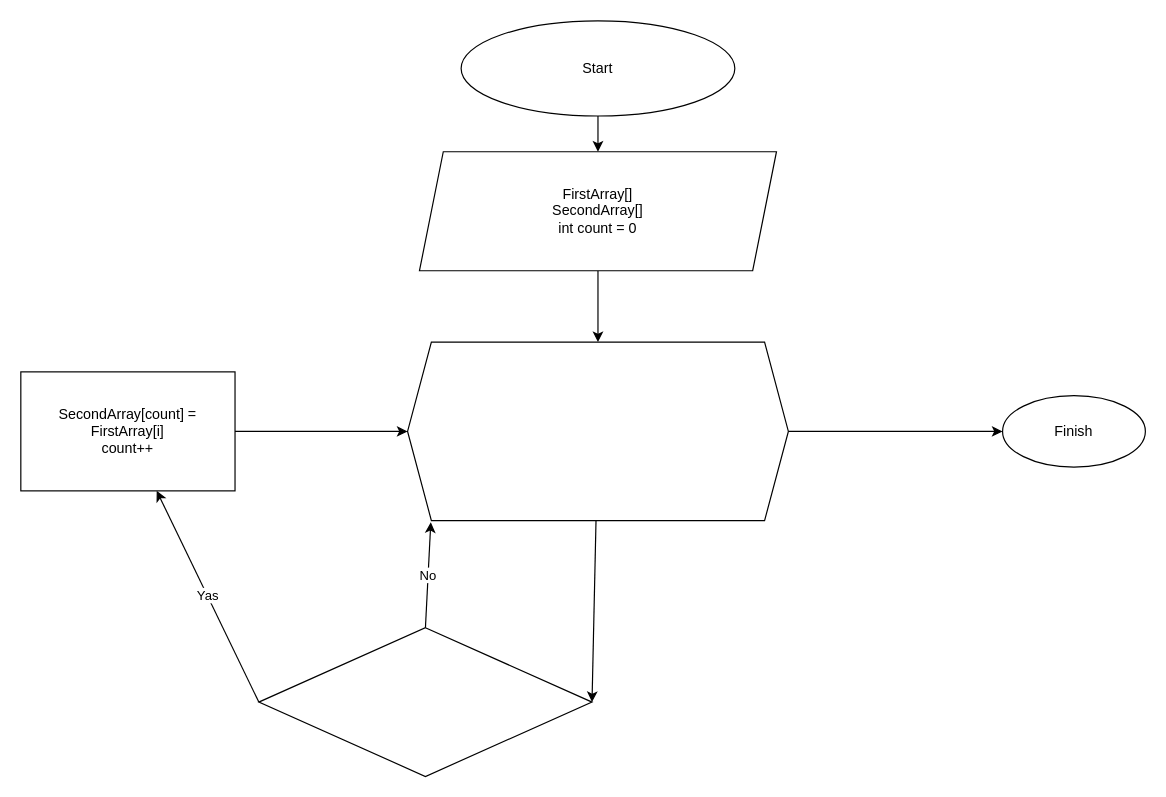
Some shapes in this 1166 by 797 pixel diagram are drawn without their labels. Each missing label, with the box of its shape:
for (int i = 0 ; i < FirstArray ; i++): (406, 341, 788, 521)
if (FirstArray[i].Lenght <= 3): (258, 627, 592, 776)
